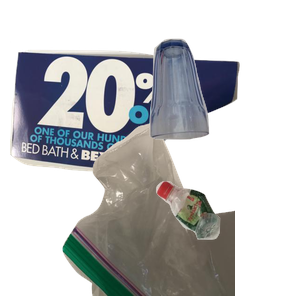glass: (147, 36, 300, 168)
paper: (10, 41, 242, 207)
plastic: (153, 178, 300, 300)
trash: (60, 120, 300, 300)
